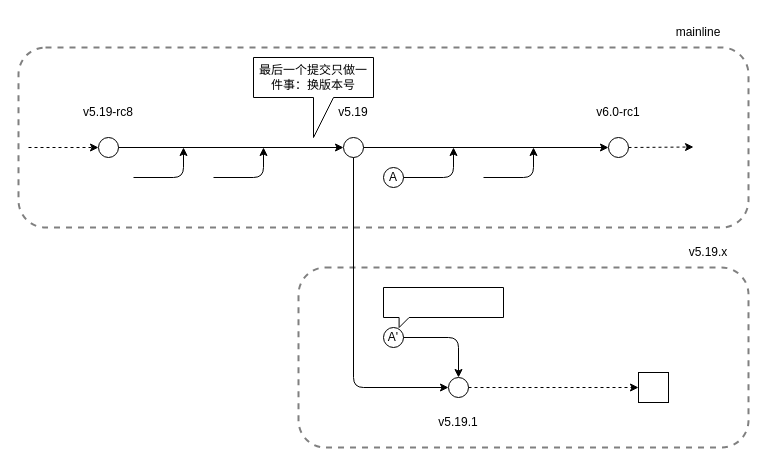
The diagram is 766 pixels wide and 465 high, and some of its shapes have lost their labels. The shapes that lost their labels are listed below. From the top down, each one's centre as x and y in pixels, then its label:
At [443,307]: "同步主线中的提交".
At [653,387]: "EOL".
